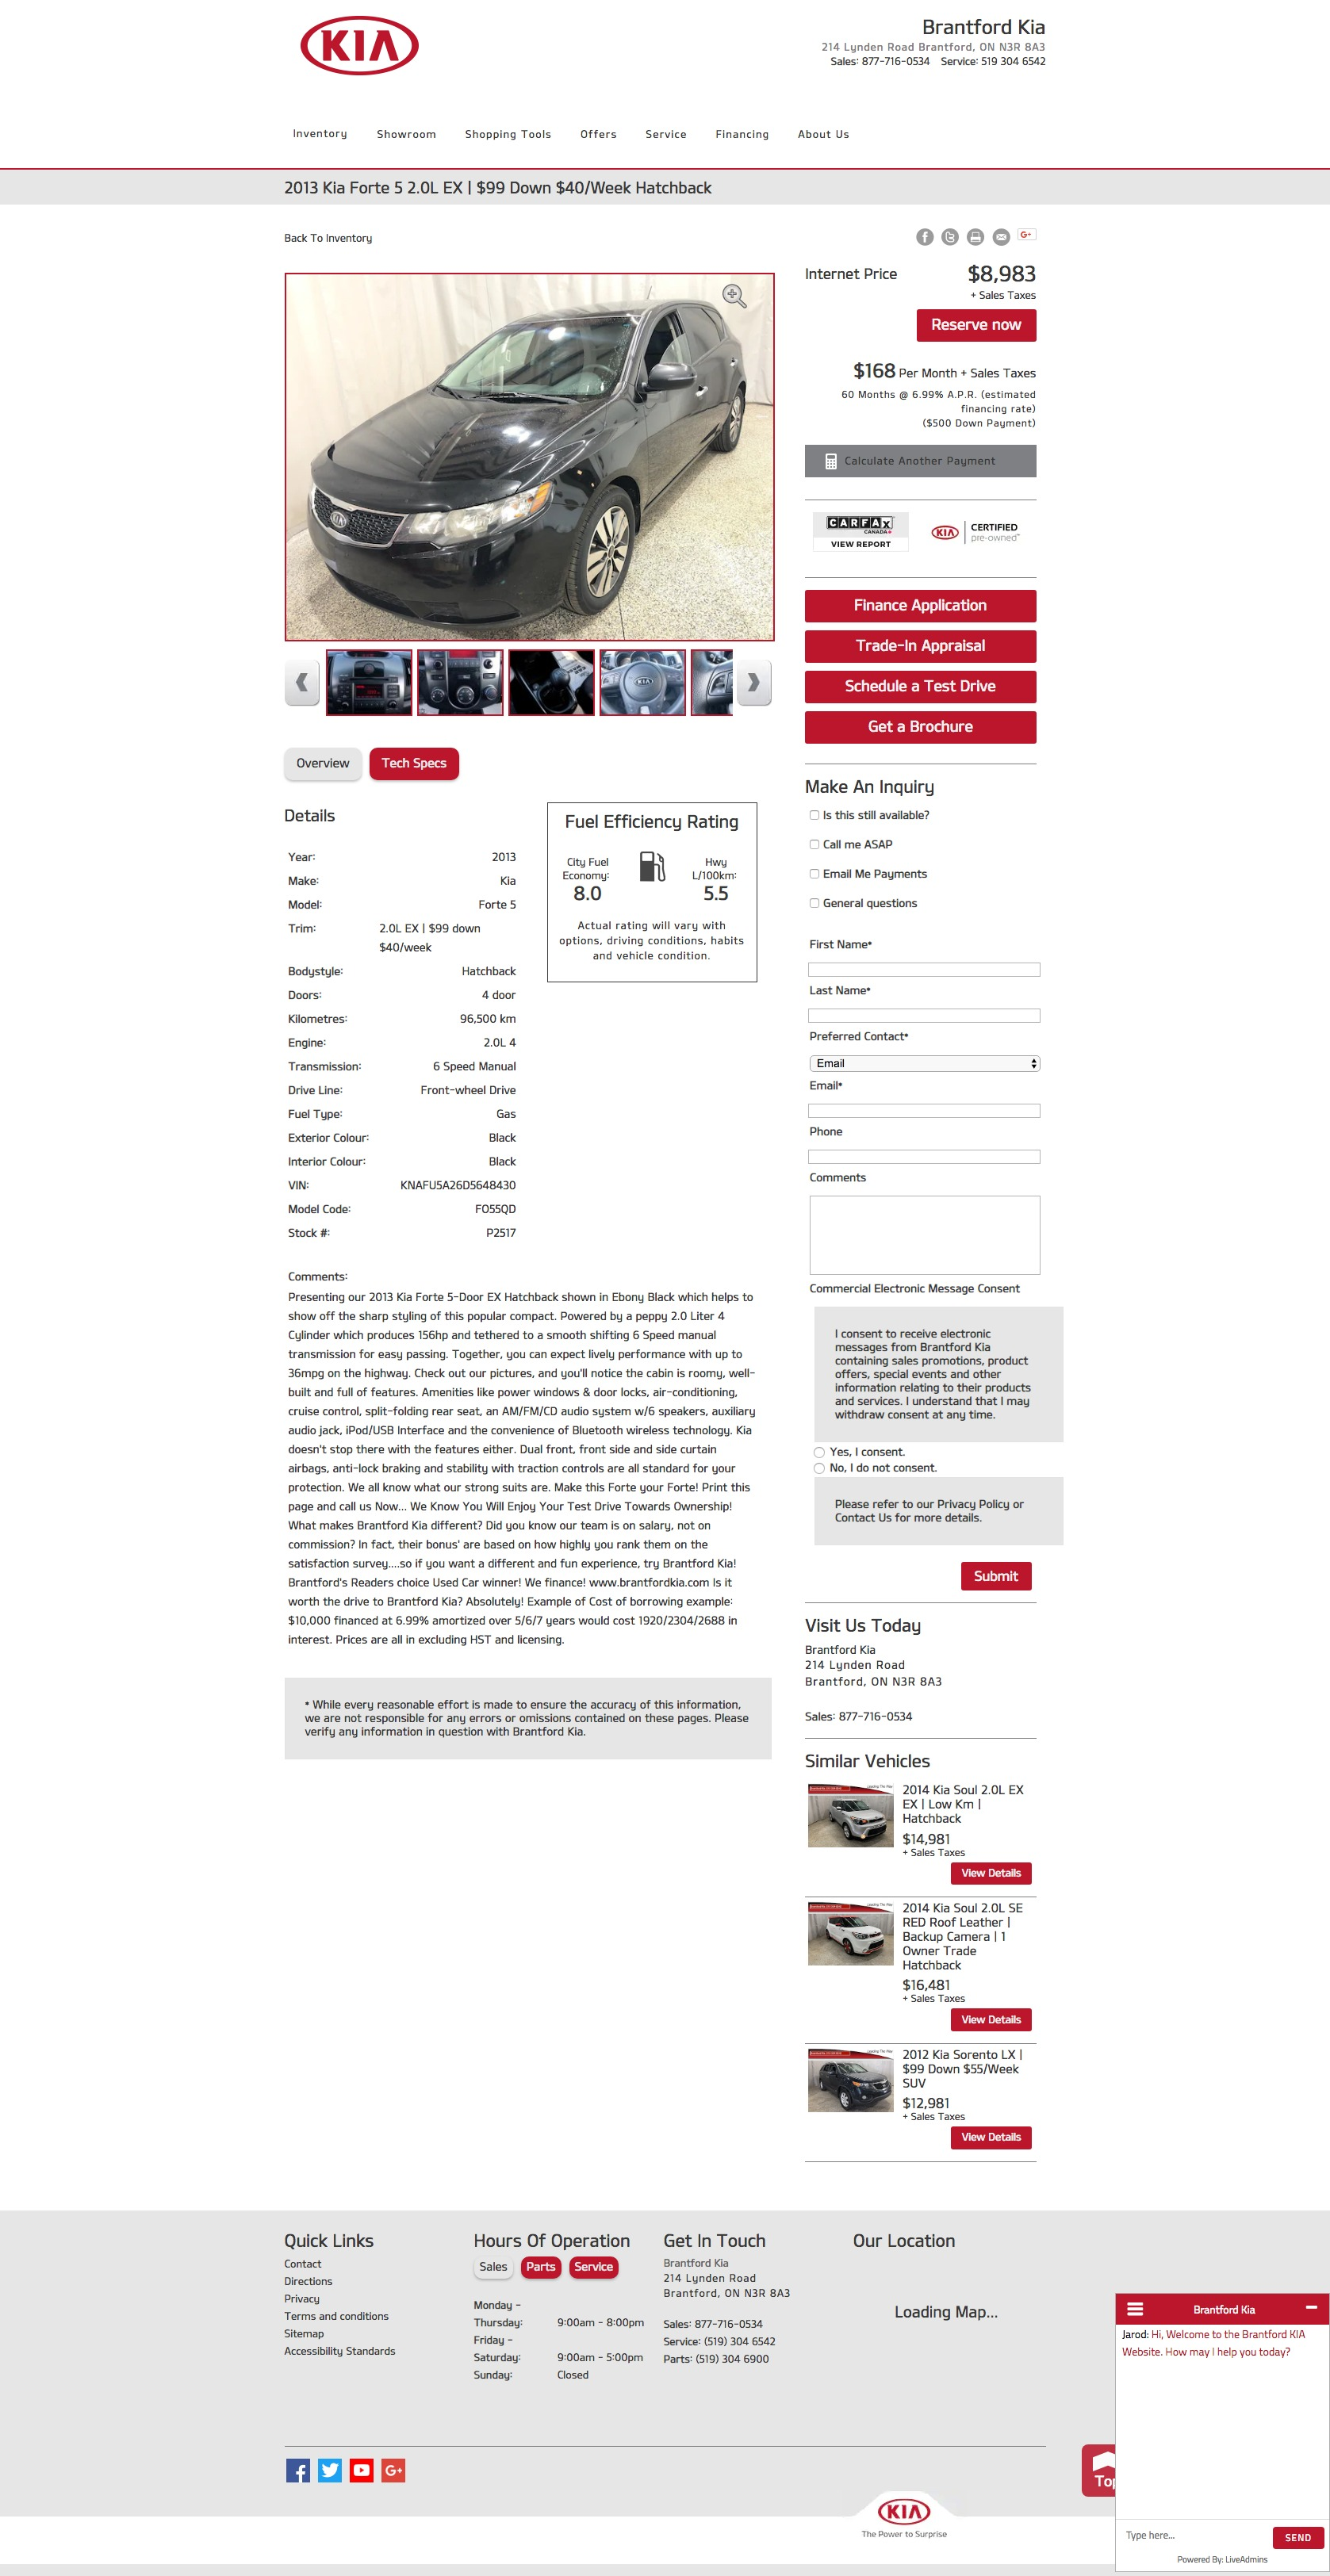car: (736, 660, 772, 707)
